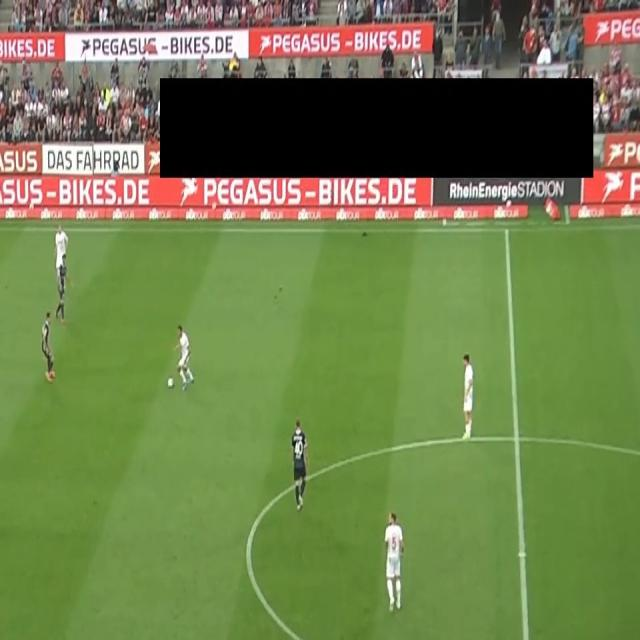ball: (168, 375, 175, 389)
